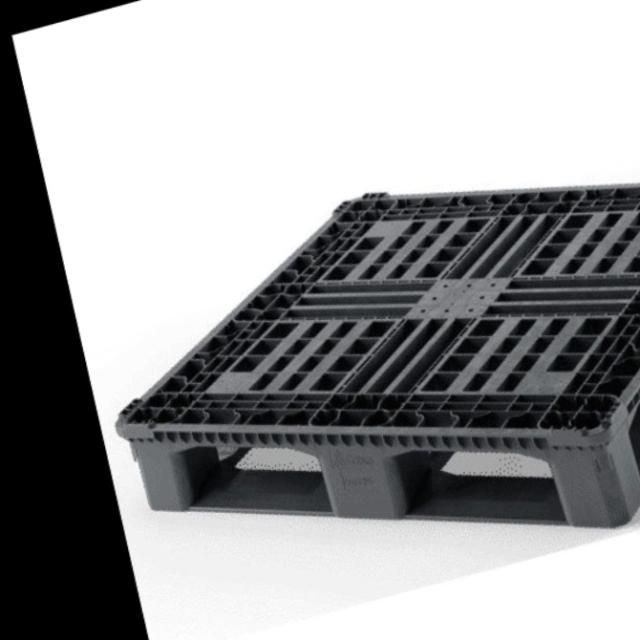non-igps: (108, 172, 640, 538)
